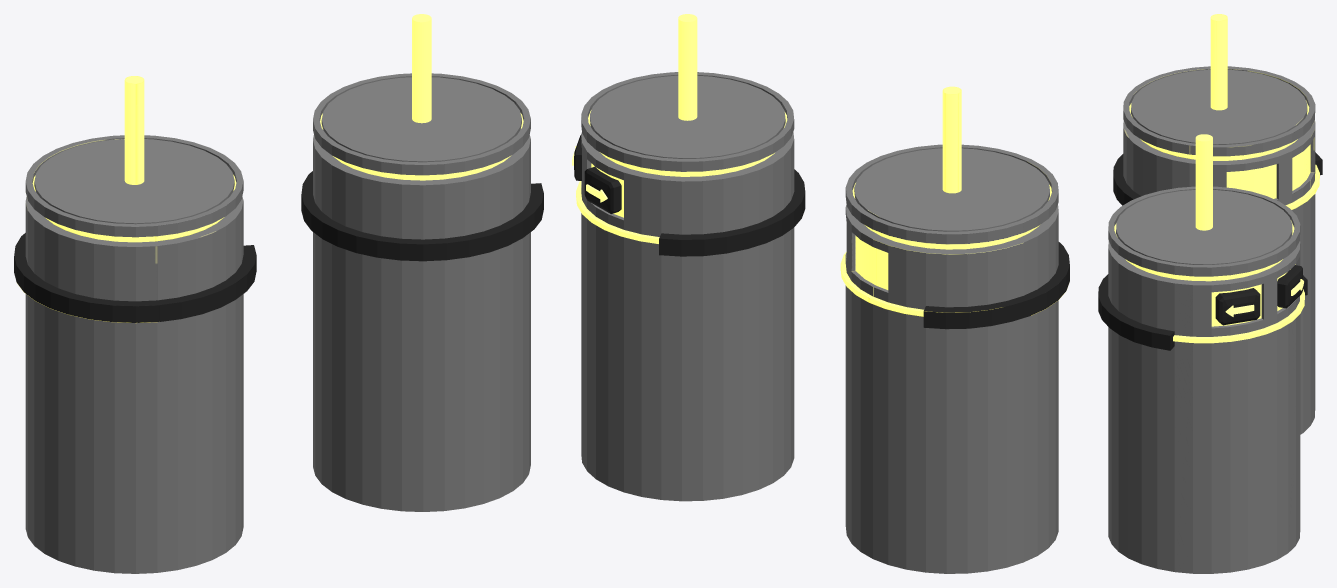
Rendered from stand.fbx.
3 renders of one model, left to right at view 1: azimuth 30°, elevation 25°; view 2: azimuth 150°, elevation 25°; view 3: azimuth 270°, elevation 25°, orthographic. The views are drawn at different scales.
Parts seen in each view (by area): view 1: Stand.003, Stand; view 2: Stand.003, Stand, Stand.002; view 3: Stand, Stand.003, Stand.001, Stand.002.
Part boxes in pixels (x1,y1,x2,y2): Stand.003: (14,76,256,573); Stand: (301,14,543,511); Stand.003: (840,86,1069,573); Stand: (576,14,805,501); Stand.002: (584,166,621,213); Stand: (1098,134,1307,573); Stand.003: (1113,14,1322,434); Stand.001: (1215,288,1260,325); Stand.002: (1277,265,1303,308).
Bounding box in the file's own units: 512 × 453 × 233.
Materials: 6 (1 with a texture image).
